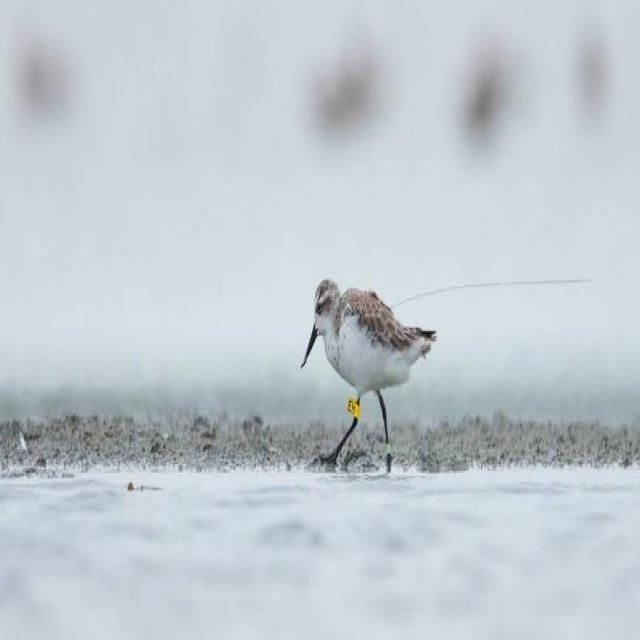sandpiper: (300, 278, 436, 471)
